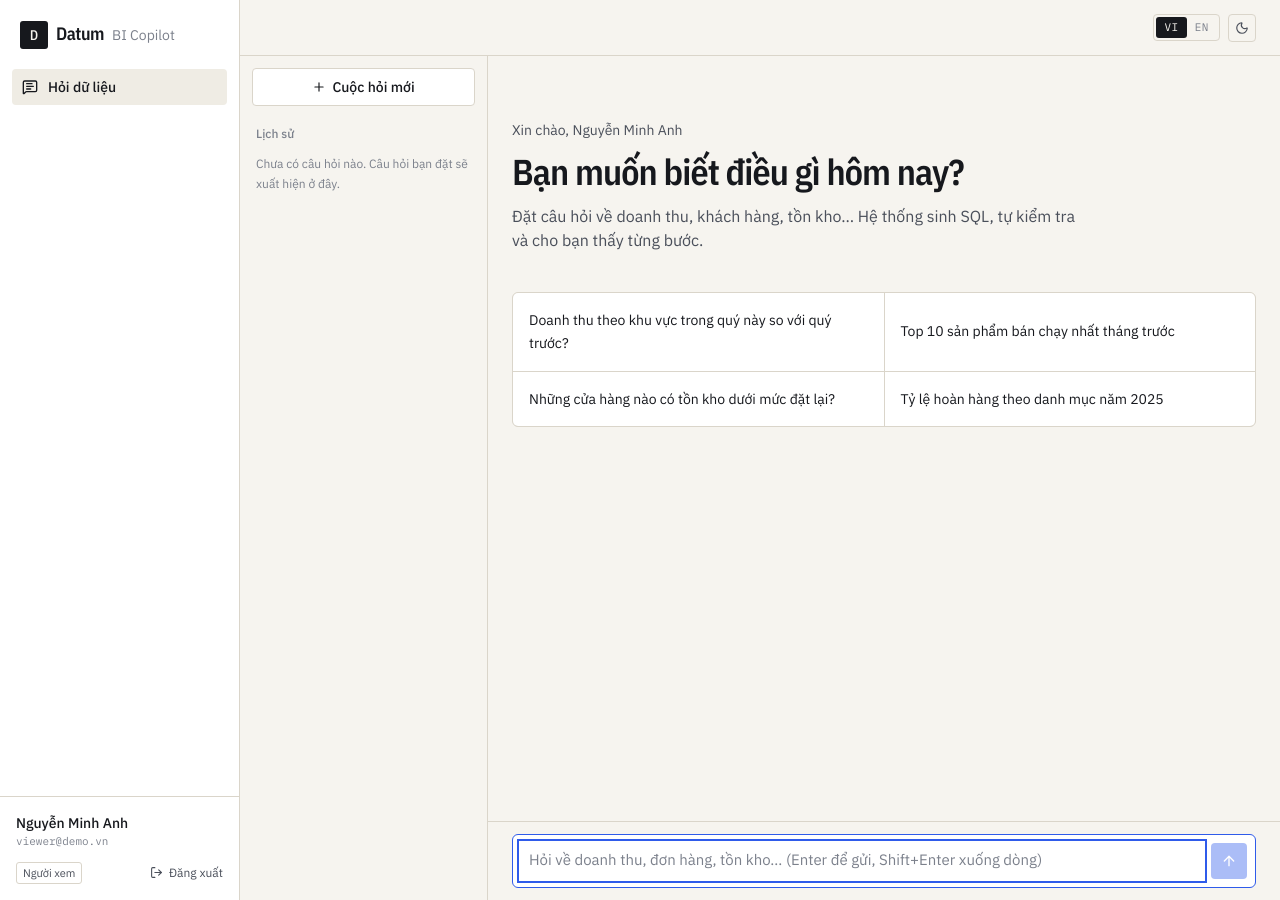
Test: ask page › streams steps and renders the answer with fallback badge
Click the button "Doanh thu theo khu vực trong quý này so với quý trước?".
click(698, 332)  # box [513, 293, 884, 370]
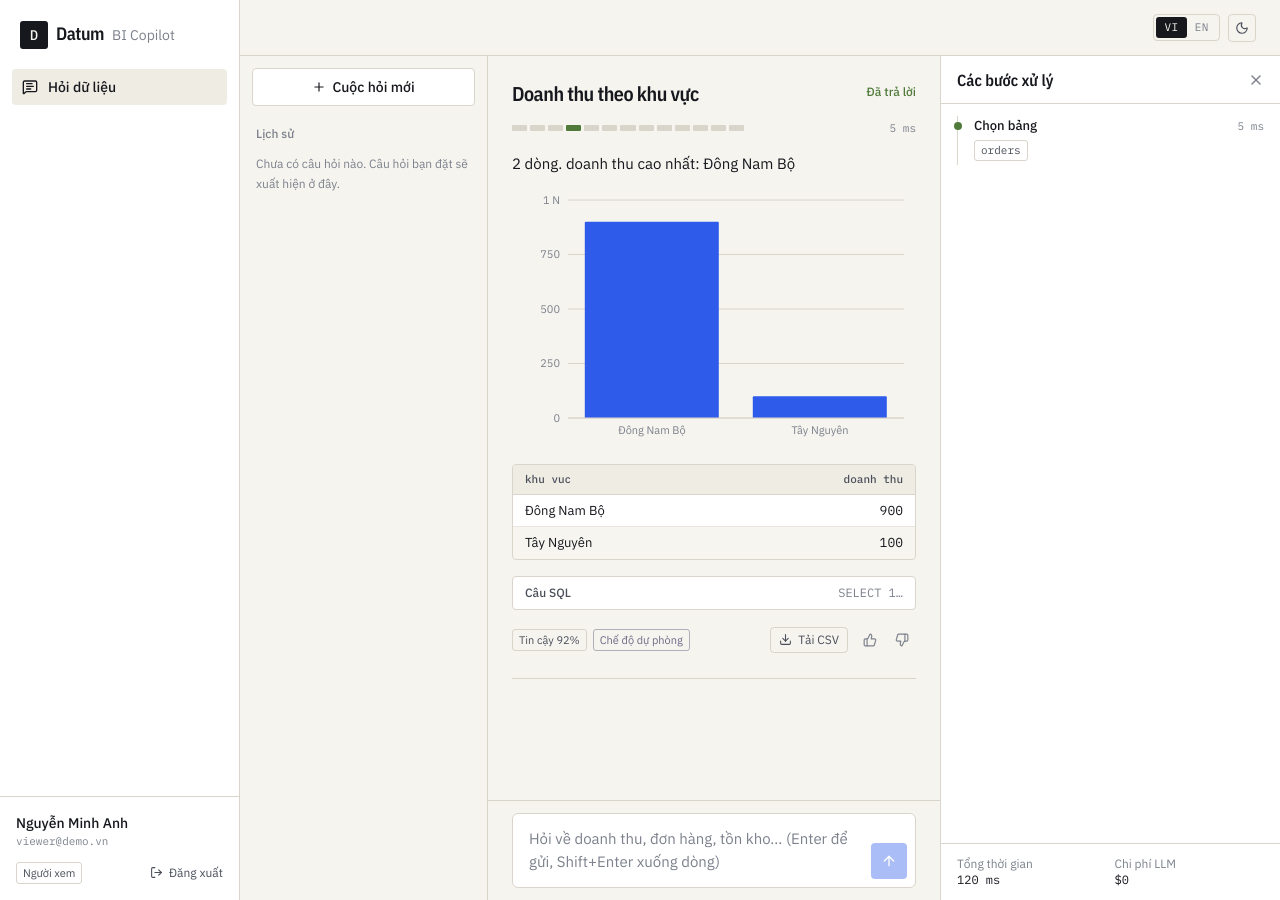
Expected: the text "2 dòng. doanh thu cao nhất: Đông Nam Bộ" is shown, [512, 154, 795, 173]
Expected: the text "Chế độ dự phòng" is shown, [593, 629, 690, 651]
Expected: the cell "Đông Nam Bộ" is shown, [513, 494, 736, 527]
